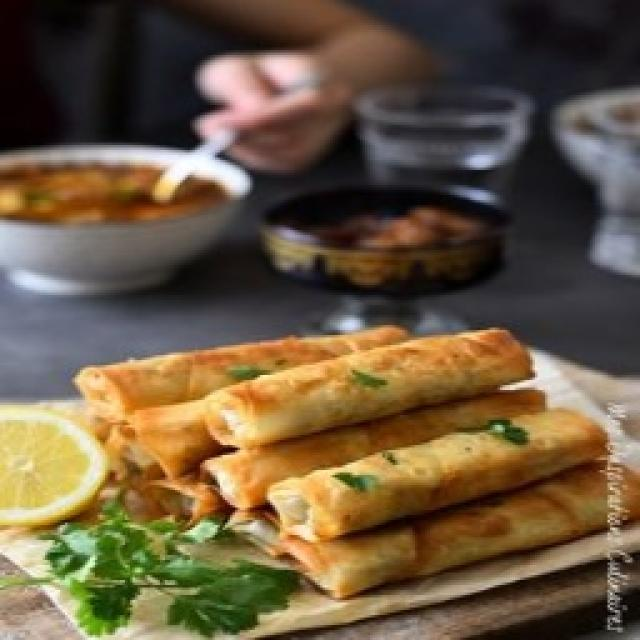Brik: (75, 328, 608, 600)
